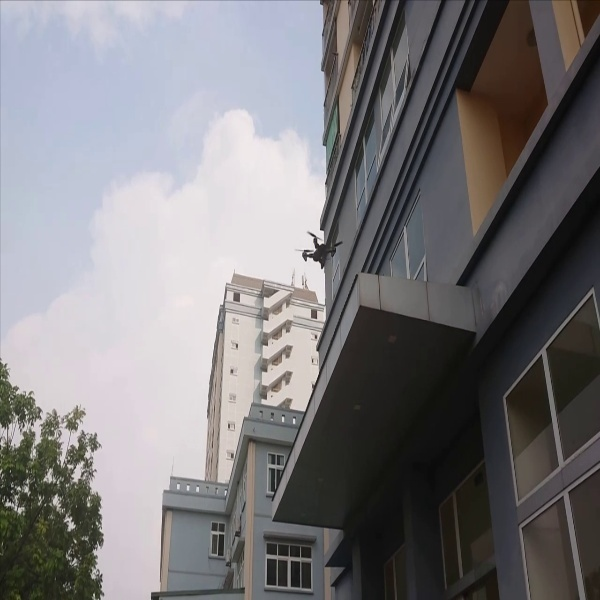drone: (293, 225, 350, 276)
